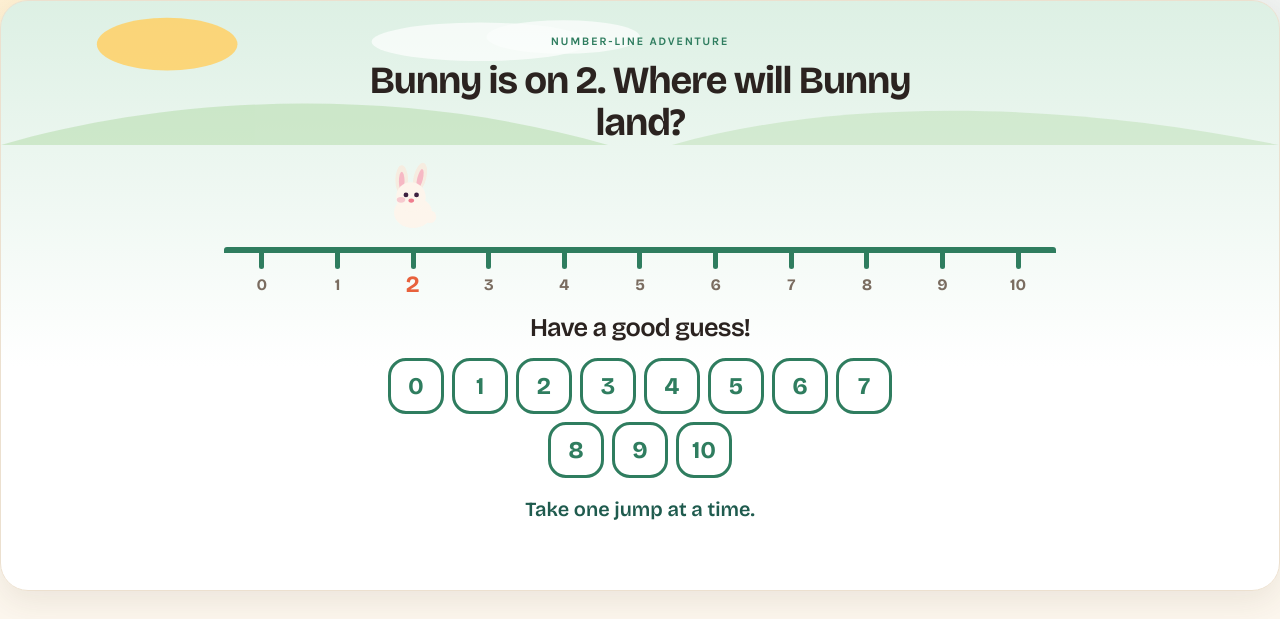
Scenario: Number-Line Adventure › takes a prediction before any jumping in predict mode
Click the button "4" at (672, 386), box [644,358,700,414]
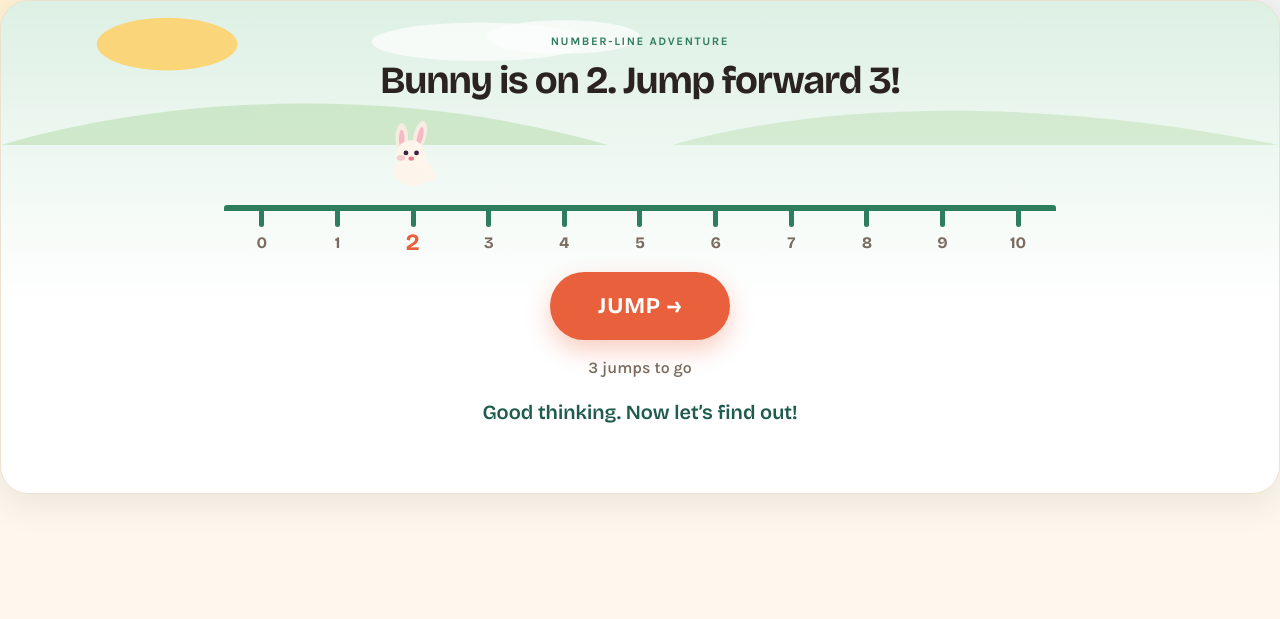
Check: the button "JUMP →" is shown, box [550,272,730,340]
